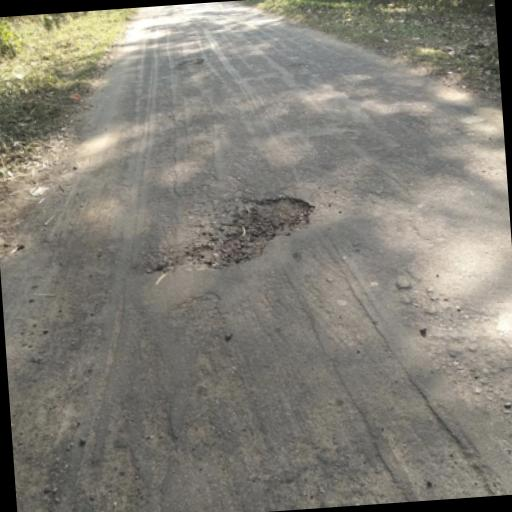pothole: (184, 190, 323, 271), (178, 54, 206, 68)
